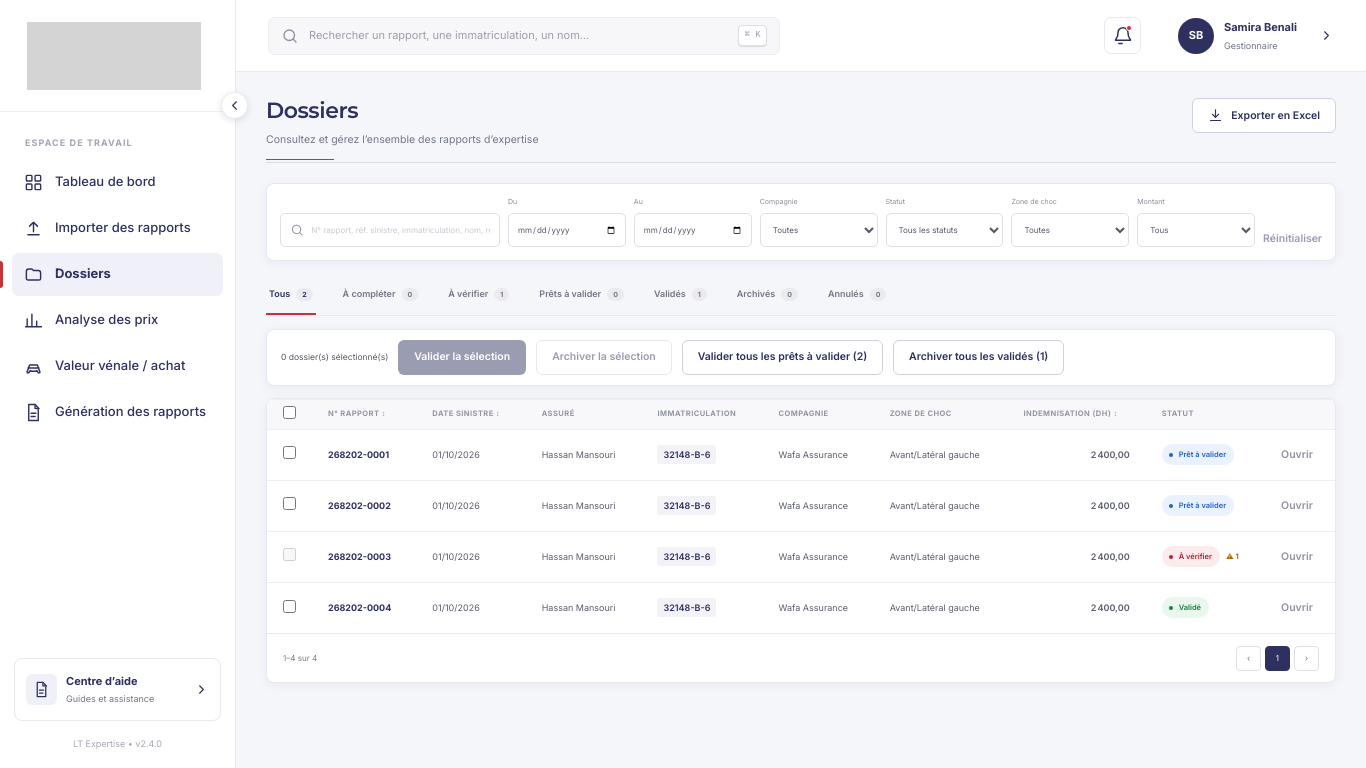
Test: validation en lot › la case « page » coche tous les dossiers prêts et validés de la page
This screenshot has width=1366, height=768.
Click the checkbox named "Cocher les dossiers de la page (prêts et validés)": (290,412) [283,406,296,419]
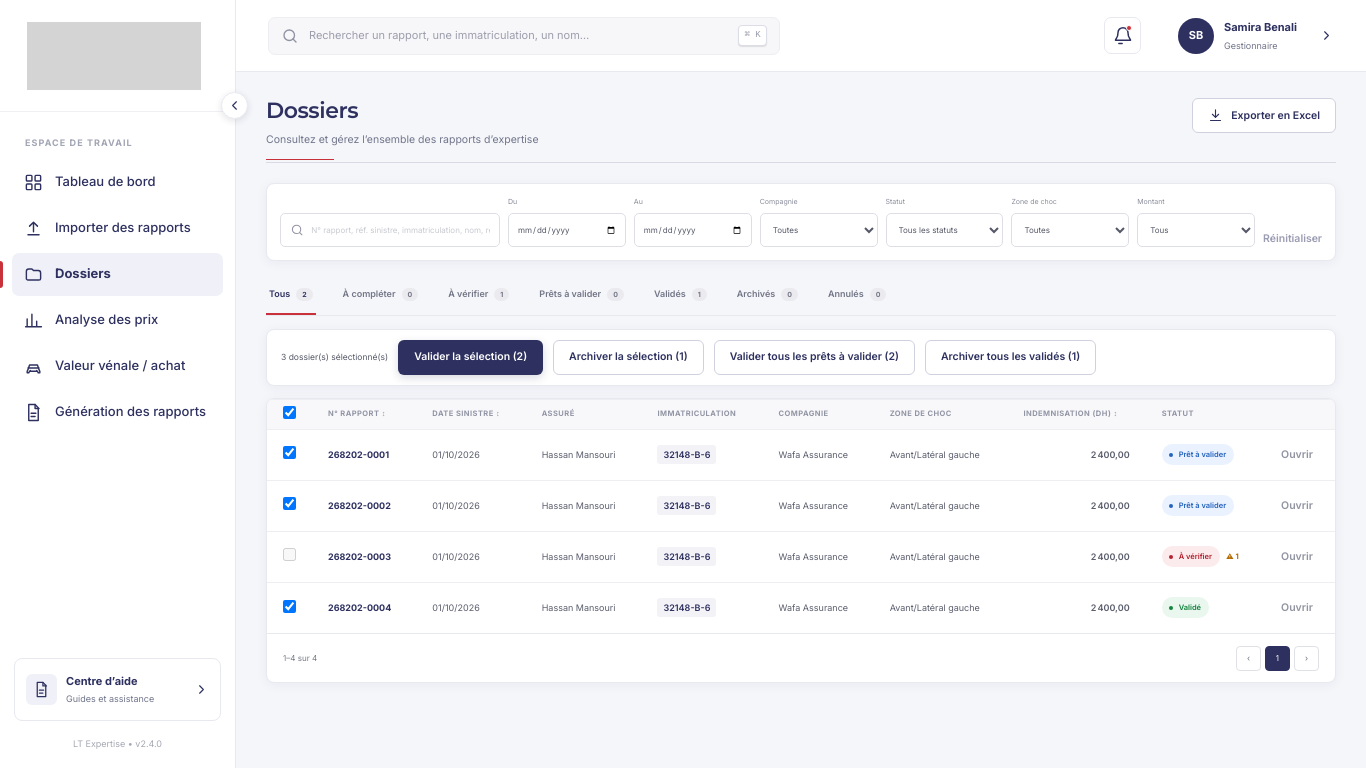
Check: the text "3 dossier(s) sélectionné(s)" is shown, box [281,351,388,363]
